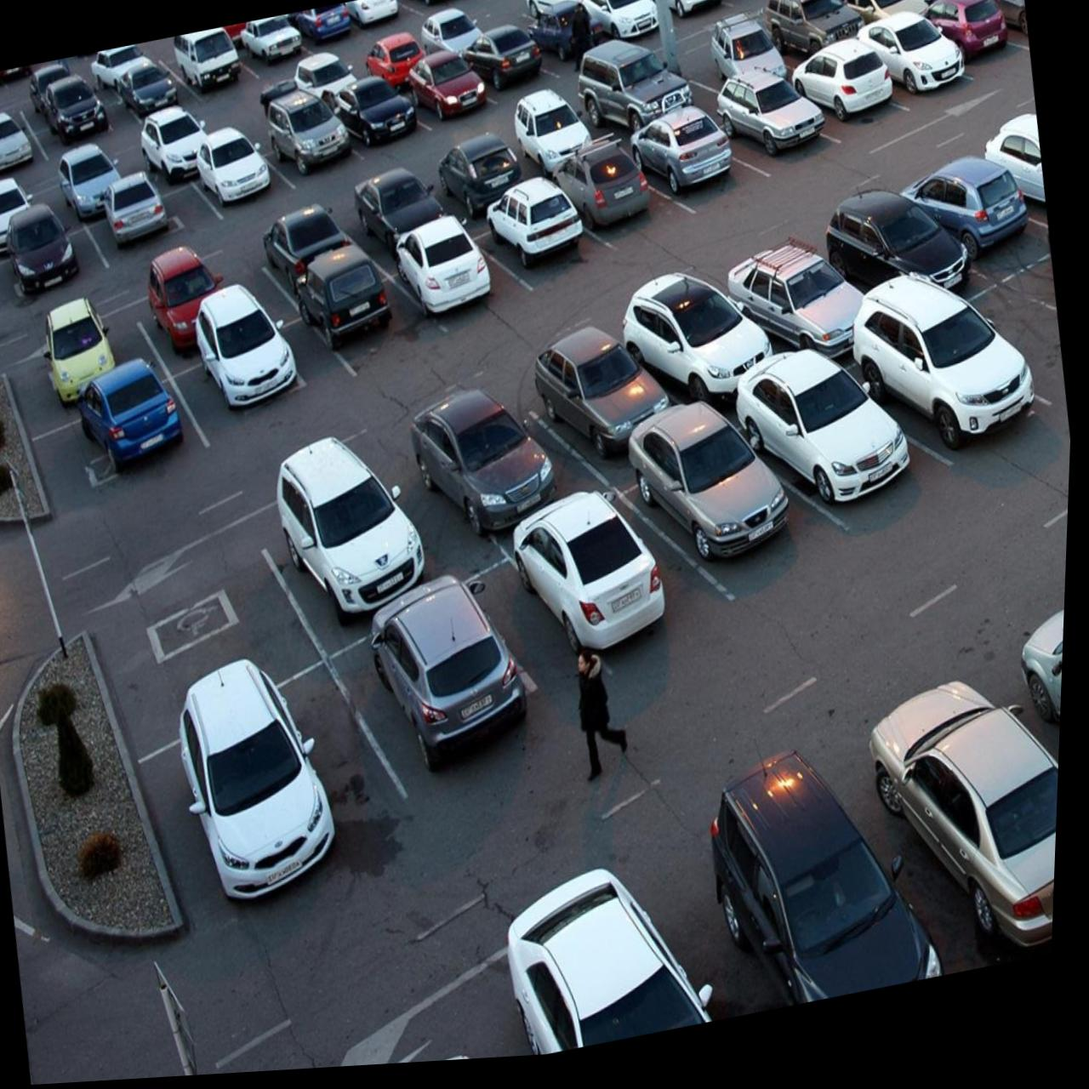cars: (151, 663, 360, 913), (490, 478, 703, 690), (364, 559, 528, 789), (732, 346, 912, 540), (252, 462, 435, 647), (857, 292, 1036, 471), (380, 375, 575, 536), (875, 127, 1051, 281), (641, 407, 799, 572), (621, 253, 780, 412), (534, 316, 686, 466), (51, 361, 197, 507), (181, 302, 330, 441), (821, 179, 970, 301), (733, 245, 866, 375), (773, 30, 913, 150), (119, 241, 264, 355), (622, 89, 758, 210), (293, 238, 417, 363), (243, 188, 378, 302), (471, 164, 603, 277), (387, 208, 510, 326), (559, 36, 694, 143), (495, 73, 615, 189), (243, 79, 362, 195), (17, 313, 144, 420), (709, 60, 832, 170), (861, 0, 973, 120), (428, 110, 538, 228), (332, 52, 440, 166), (556, 130, 670, 237), (401, 19, 502, 131), (93, 151, 200, 255), (187, 116, 294, 220), (683, 0, 787, 106), (344, 152, 449, 256), (455, 3, 555, 102), (51, 115, 147, 217), (0, 213, 95, 316), (746, 0, 862, 69), (131, 87, 217, 178), (914, 0, 1025, 70), (35, 72, 128, 155), (289, 22, 367, 120), (518, 0, 610, 73), (111, 45, 194, 122), (362, 8, 429, 97), (172, 35, 256, 103), (0, 166, 63, 250), (576, 0, 676, 52), (238, 11, 308, 85), (406, 0, 481, 68), (0, 113, 47, 190), (640, 0, 744, 30), (695, 0, 785, 0)
empty: (99, 525, 312, 733), (201, 82, 279, 163), (473, 0, 540, 41)
